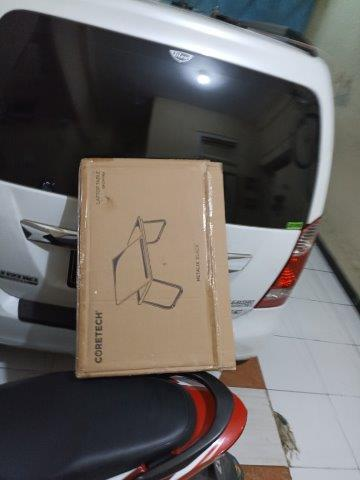kardus: (77, 158, 234, 381)
